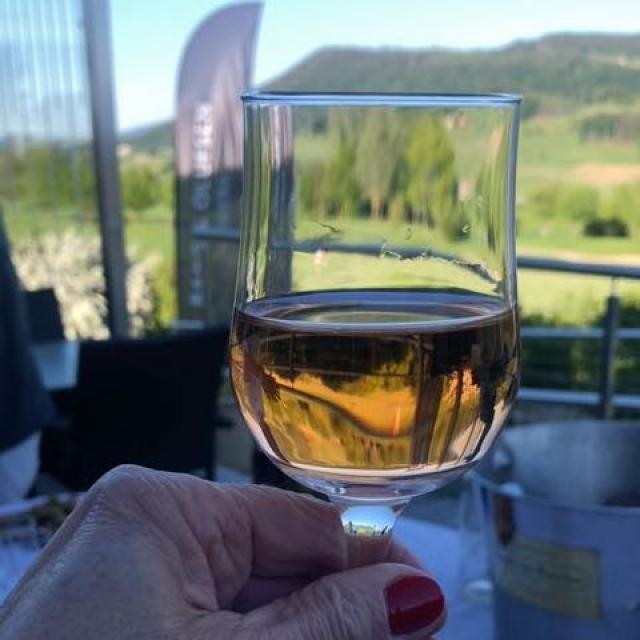wine: (250, 326, 509, 471)
